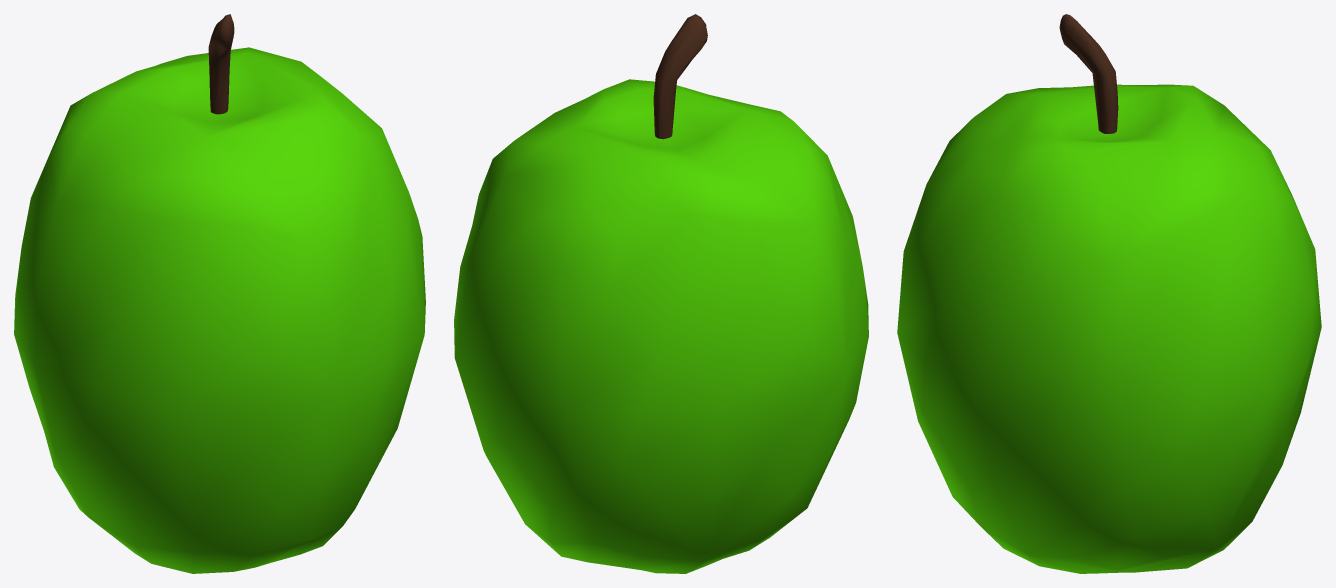
File: Green_Good_apple.fbx
3 views of the same model, side by side, from view 1: azimuth 30°, elevation 25°; view 2: azimuth 150°, elevation 25°; view 3: azimuth 270°, elevation 25° (orthographic). The views are drawn at different scales.
Visible parts, largest first — view 1: pasted__polySurface13, pasted__polySurface14; view 2: pasted__polySurface13, pasted__polySurface14; view 3: pasted__polySurface13, pasted__polySurface14.
Boxes of the visible parts, x1,y1,x2,y2 form: pasted__polySurface13: [14, 47, 425, 573]; pasted__polySurface14: [208, 14, 234, 114]; pasted__polySurface13: [454, 79, 868, 573]; pasted__polySurface14: [653, 14, 707, 139]; pasted__polySurface13: [897, 84, 1321, 573]; pasted__polySurface14: [1059, 14, 1118, 133].
Bounding box in the file's own units: 1.09 × 1.51 × 1.09.
